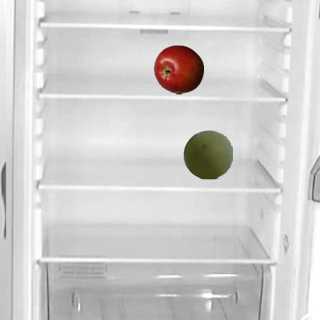Apple Braeburn: (153, 44, 203, 94)
Grape White 4: (182, 129, 232, 179)
